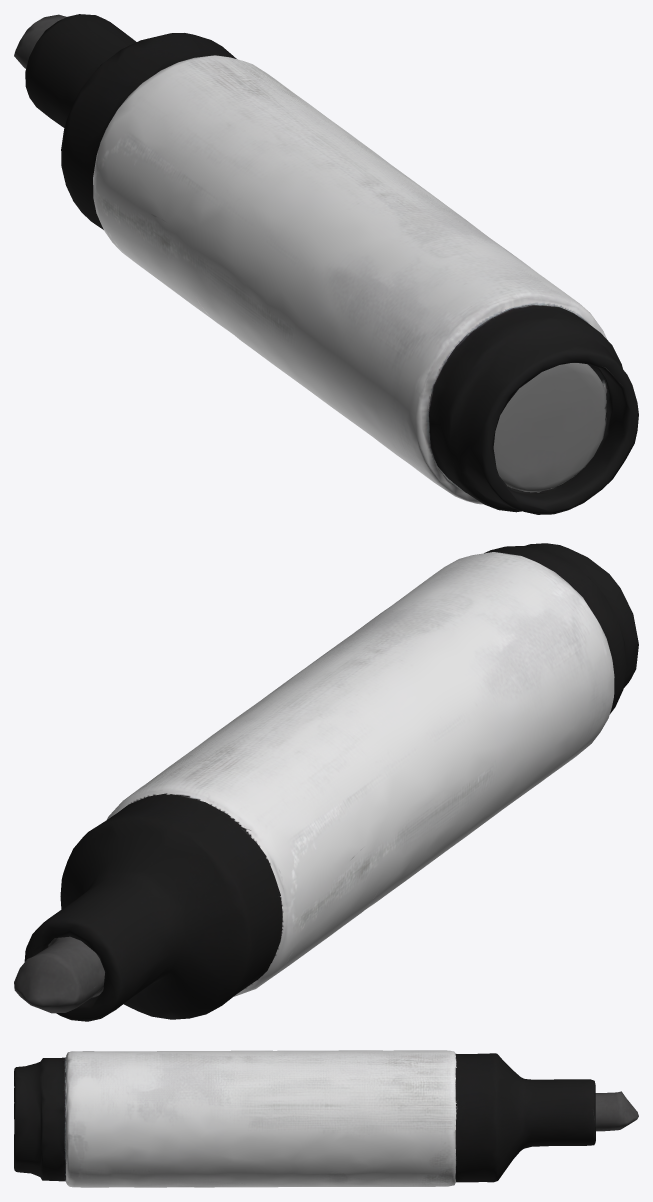
Rendered from smalllectureroom_WhiteboardMarker.glb.
3 views of the same model, one above another, from view 1: azimuth 30°, elevation 25°; view 2: azimuth 150°, elevation 25°; view 3: azimuth 270°, elevation 25° (orthographic). The views are drawn at different scales.
Visible parts, largest first — view 1: world; view 2: world; view 3: world.
Boxes of the visible parts, box(x1,y1,x2,y2) form: world: box(14, 14, 638, 514); world: box(14, 543, 638, 1021); world: box(14, 1050, 638, 1187).
Bounding box in the file's own units: 0.2201 × 0.2197 × 1.
1 material, 1 textured.
